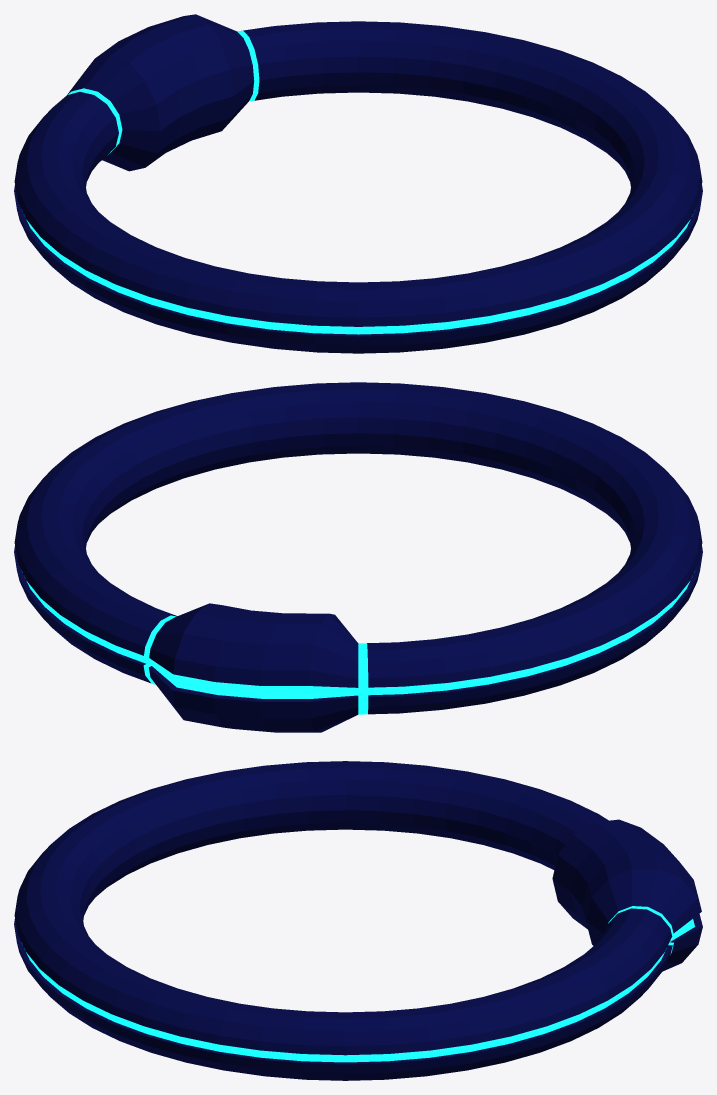
The model's file is ProgressRing.fbx.
The picture shows the model from 3 angles, top to bottom: view 1: azimuth 30°, elevation 25°; view 2: azimuth 150°, elevation 25°; view 3: azimuth 270°, elevation 25°; orthographic projection. The views are drawn at different scales.
Visible parts, largest first — view 1: Torus; view 2: Torus; view 3: Torus.
Boxes of the visible parts, x1=… form: Torus: x1=14, y1=14, x2=702, y2=353; Torus: x1=14, y1=382, x2=702, y2=732; Torus: x1=14, y1=761, x2=702, y2=1080.
Size of the model in its own units: 473 by 82.25 by 491.
